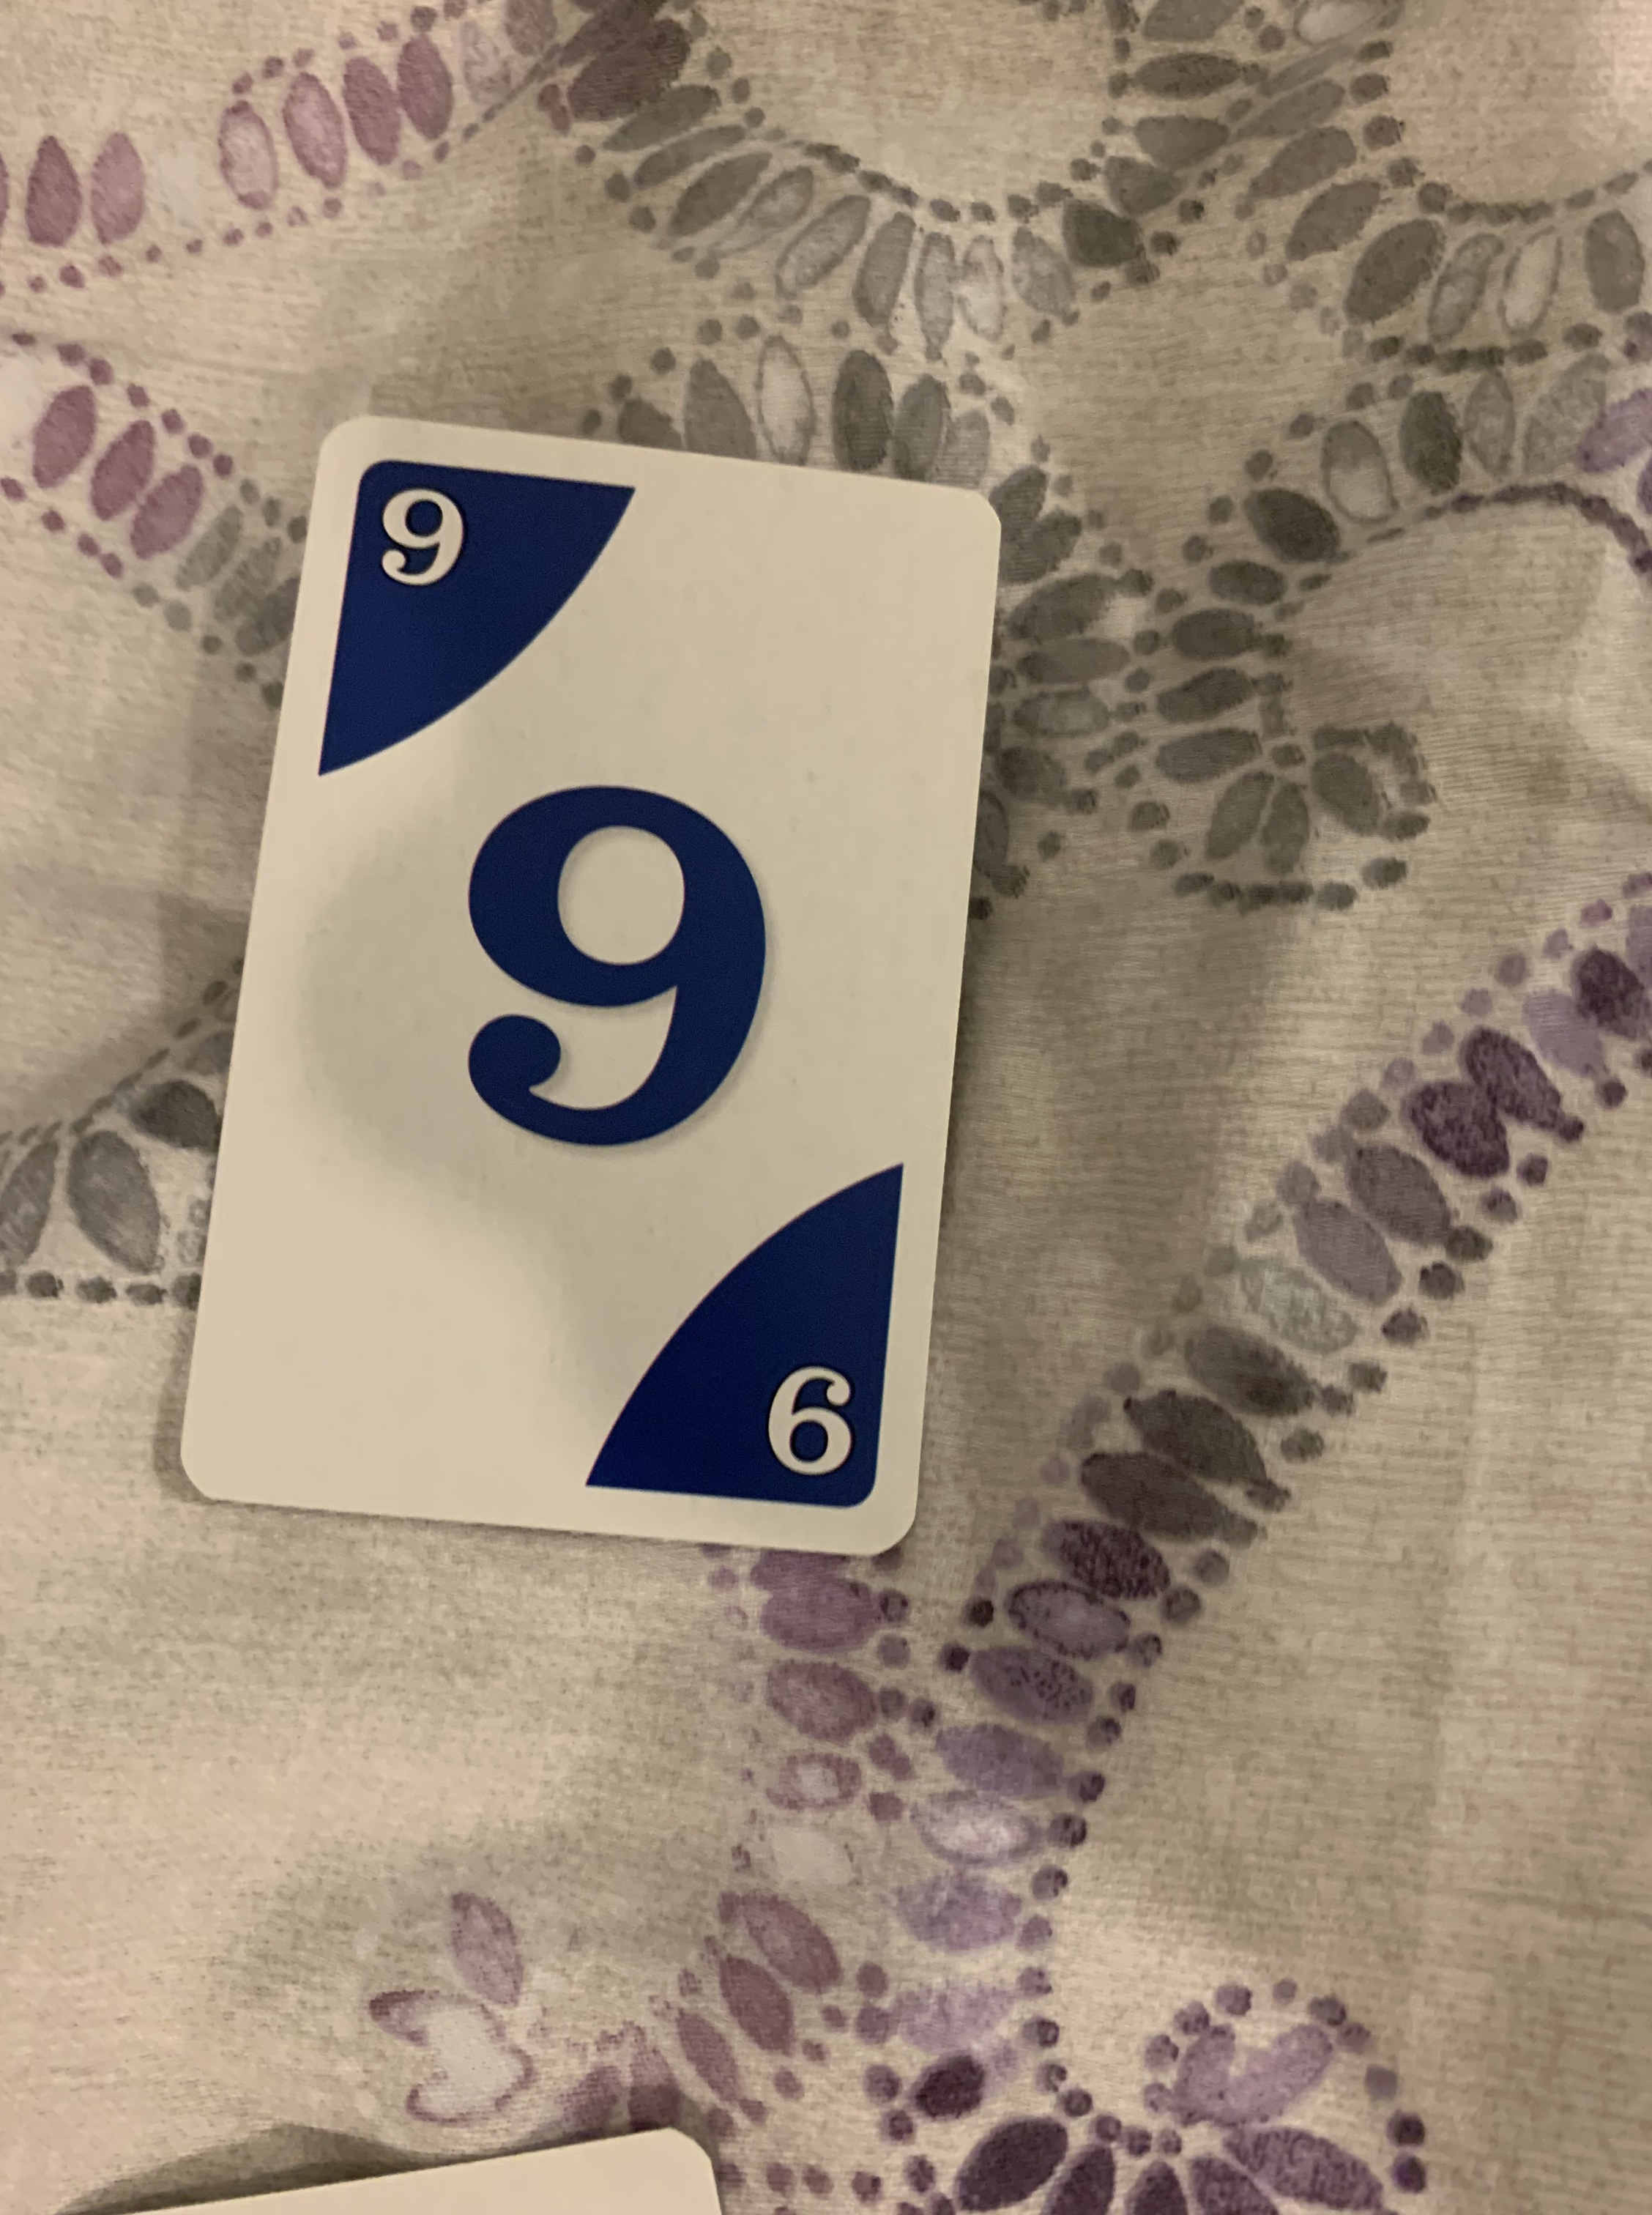nine: (161, 403, 1008, 1578)
